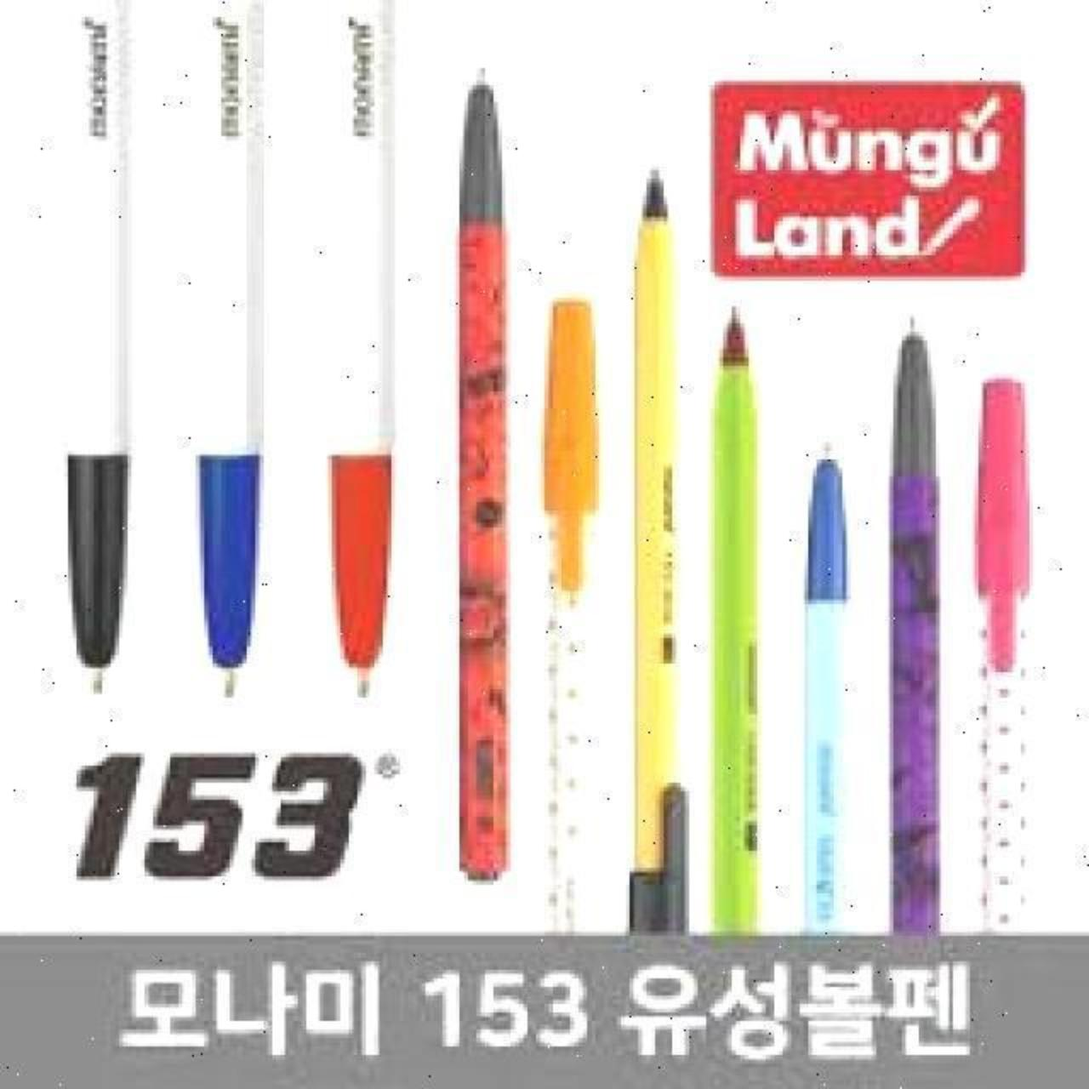pen: (60, 5, 145, 708)
